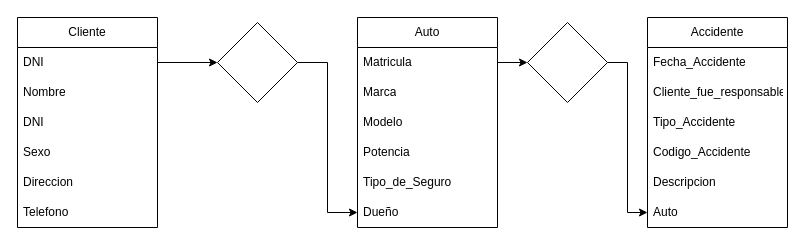
This 805x245 diagram has some shape labels left out. The centre of each missing label's shape, as x and y in pixels:
"Tiene" belongs at point (257, 62).
"Tuvo" belongs at point (567, 62).
